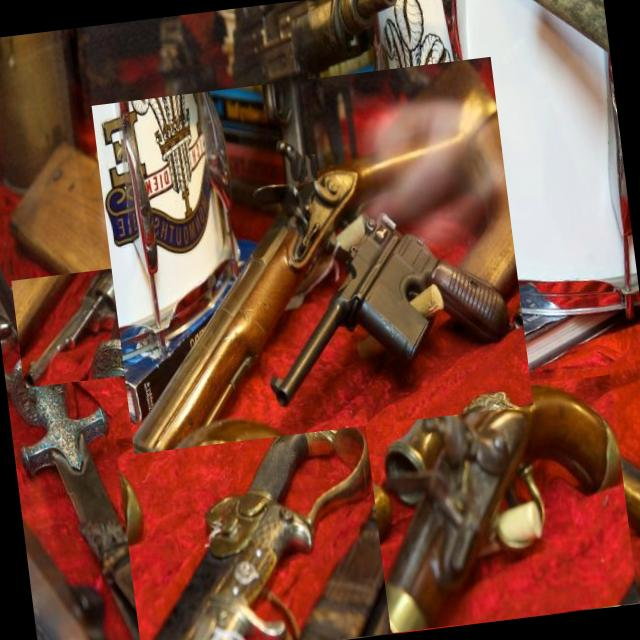Gun: (132, 60, 496, 450), (373, 384, 621, 632), (142, 232, 377, 421), (232, 0, 393, 175), (24, 268, 122, 387), (529, 404, 588, 482), (305, 155, 317, 181)
Knife: (11, 350, 224, 640), (156, 415, 371, 640)
